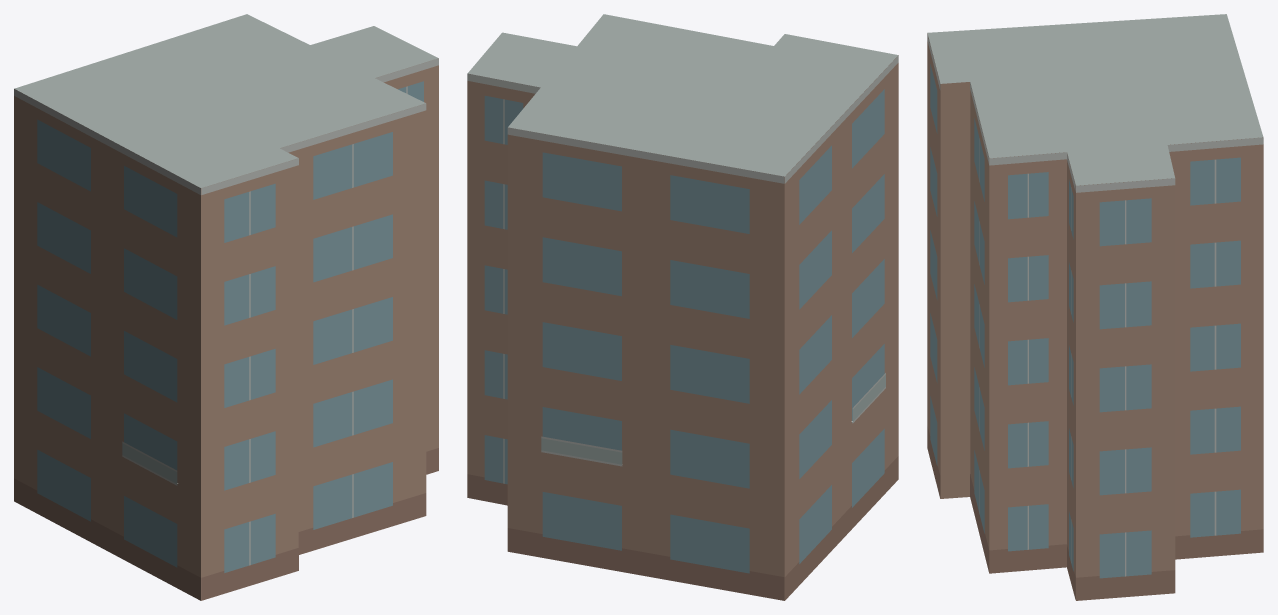
File: survey-upis-32725677.glb
The picture shows the model from 3 angles, left to right: view 1: azimuth 30°, elevation 25°; view 2: azimuth 150°, elevation 25°; view 3: azimuth 270°, elevation 25°; orthographic projection. The views are drawn at different scales.
Visible parts, largest first — view 1: survey-upis-32725677.tmp; view 2: survey-upis-32725677.tmp; view 3: survey-upis-32725677.tmp.
Part boxes in pixels (bbox=[...]): survey-upis-32725677.tmp: bbox=[14, 14, 438, 600]; survey-upis-32725677.tmp: bbox=[467, 14, 898, 600]; survey-upis-32725677.tmp: bbox=[927, 14, 1263, 600].
Size of the model in its own units: 12.61 by 14.2 by 10.43.
